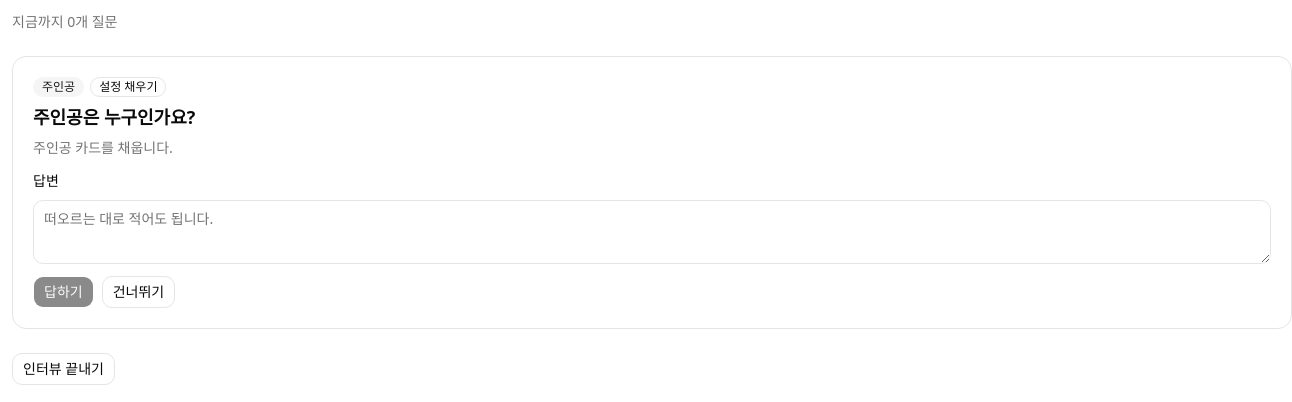
it: InterviewSession answers › shows the answer progress with a cancel button while the answer is organized
Type "서윤은 검객이다." into the text box labelled "답변".
click(652, 232); type("서윤은 검객이다.")  # box [33,200,1271,264]
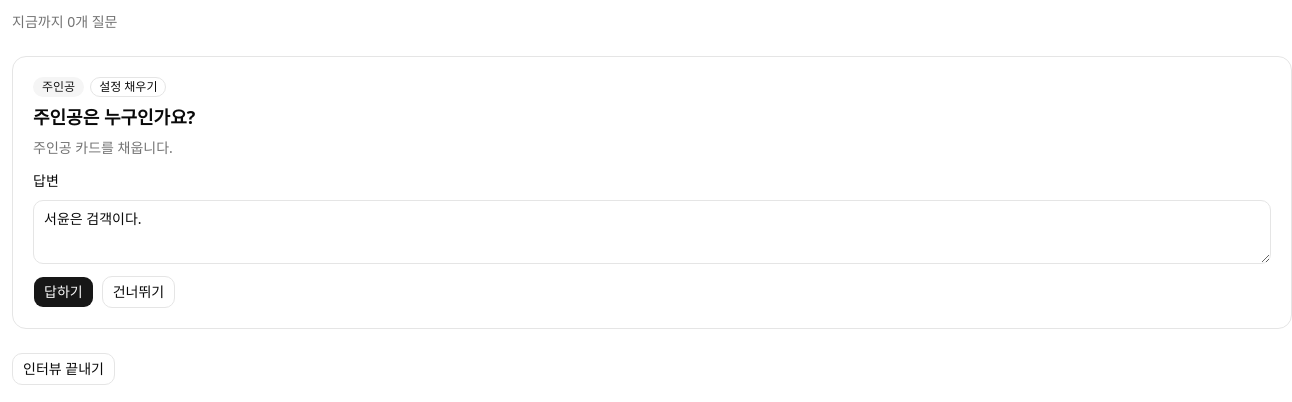
Click the button "답하기".
click(63, 292)  # box [33,276,94,308]
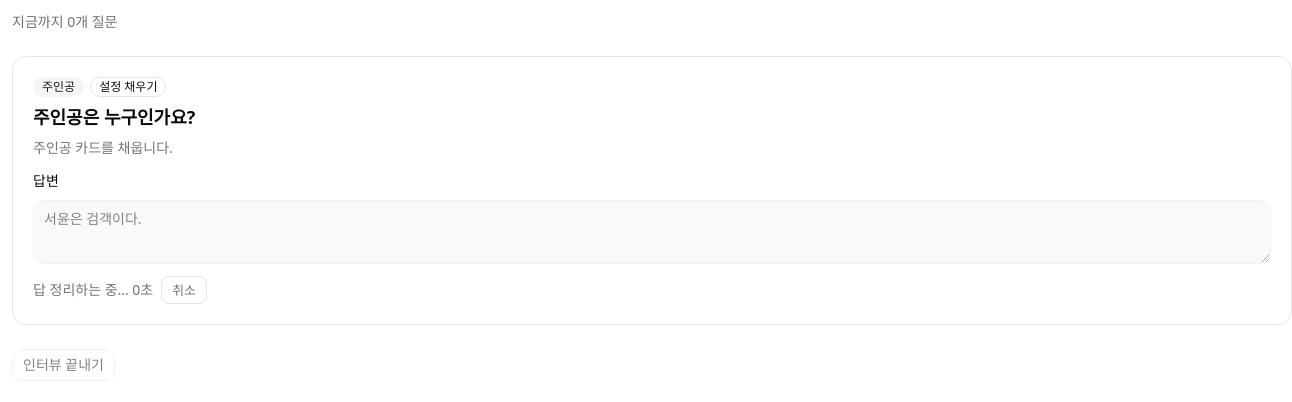
Expected: the text "답 정리하는 중… 0초" is shown, [33,280,153,300]
Expected: the button "취소" is shown, [161,276,207,304]
